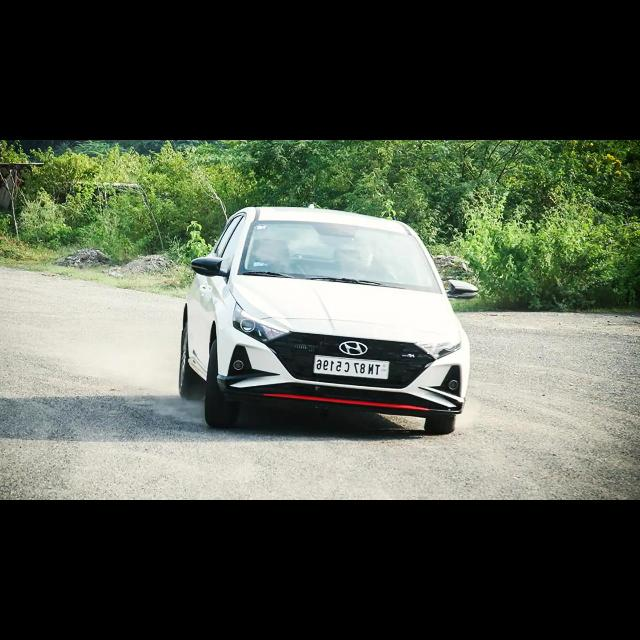vehicles: (181, 204, 479, 438)
